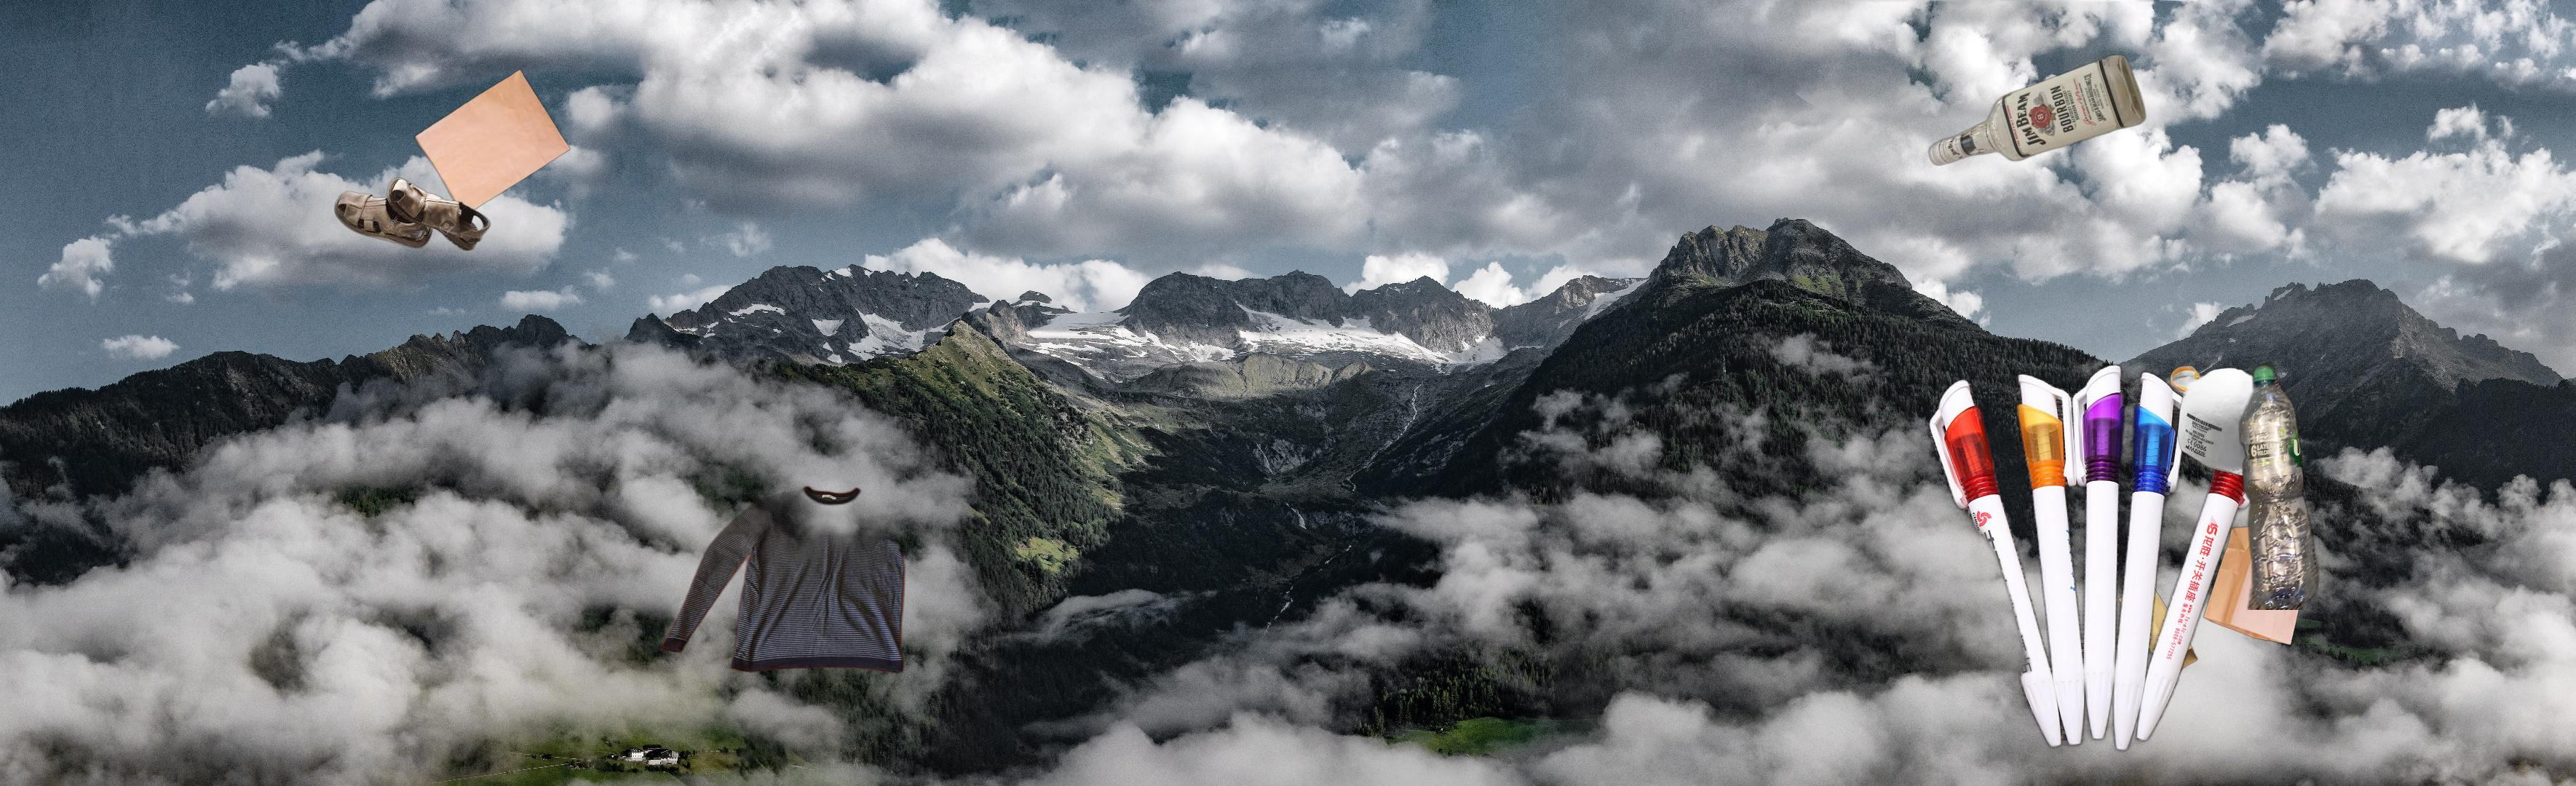clothes: (657, 423, 944, 680)
glass: (1926, 52, 2149, 168)
paper-bag: (359, 60, 572, 239), (2117, 505, 2313, 678)
penholder: (1924, 265, 2285, 758)
plastic-bottles: (2235, 360, 2324, 610)
shoes: (332, 175, 491, 255)
trash: (2168, 363, 2300, 504)
